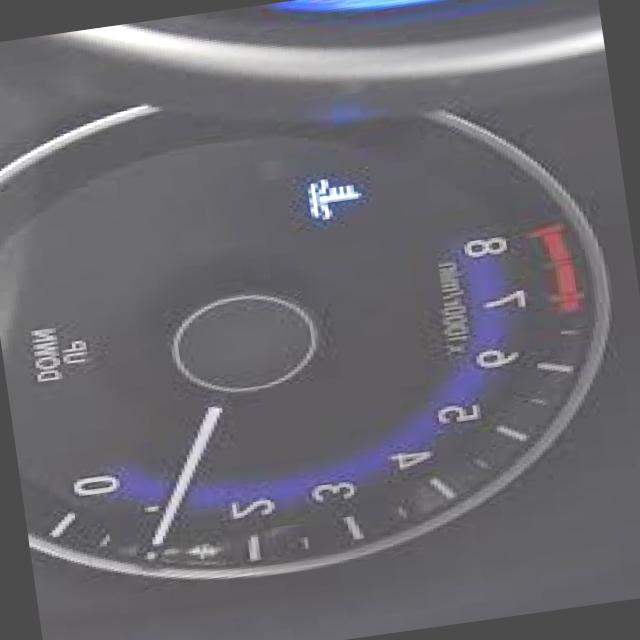kontrolka: (274, 152, 382, 242)
